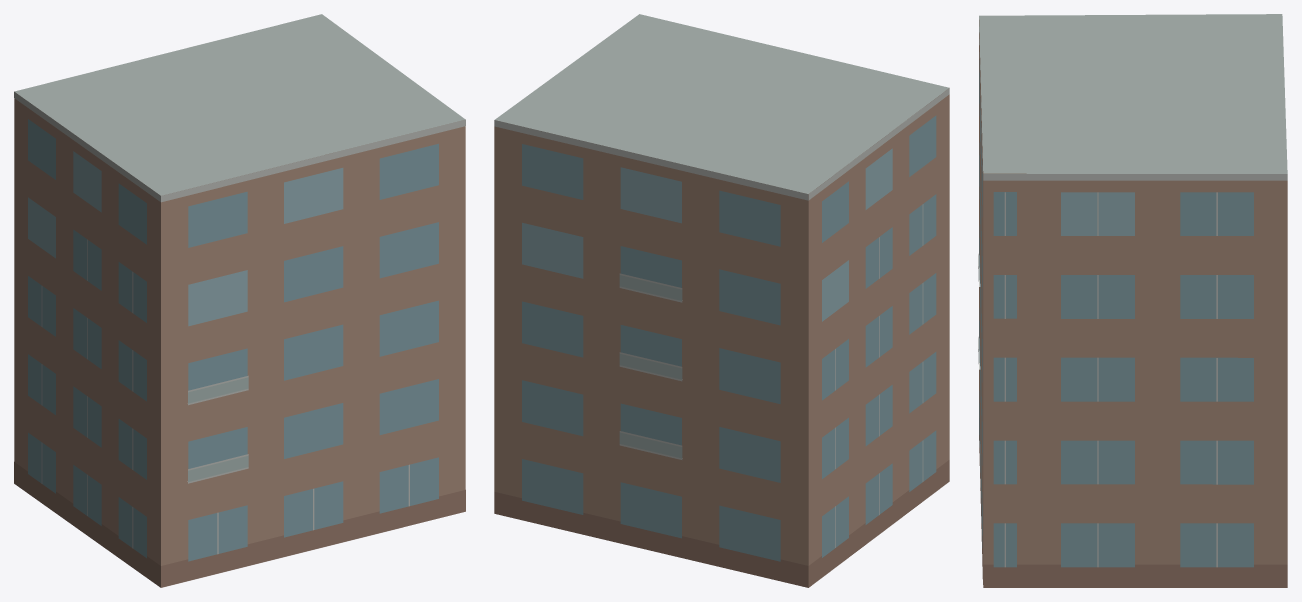
File: survey-upis-32579457.glb
3 views of the same model, side by side, from view 1: azimuth 30°, elevation 25°; view 2: azimuth 150°, elevation 25°; view 3: azimuth 270°, elevation 25° (orthographic). The views are drawn at different scales.
Visible parts, largest first — view 1: survey-upis-32579457.tmp; view 2: survey-upis-32579457.tmp; view 3: survey-upis-32579457.tmp.
Part boxes in pixels (left/top/right/bottom): survey-upis-32579457.tmp: left=14, top=14, right=465, bottom=587; survey-upis-32579457.tmp: left=494, top=14, right=949, bottom=587; survey-upis-32579457.tmp: left=978, top=14, right=1287, bottom=587.
Size of the model in its own units: 12.23 by 14.75 by 10.
